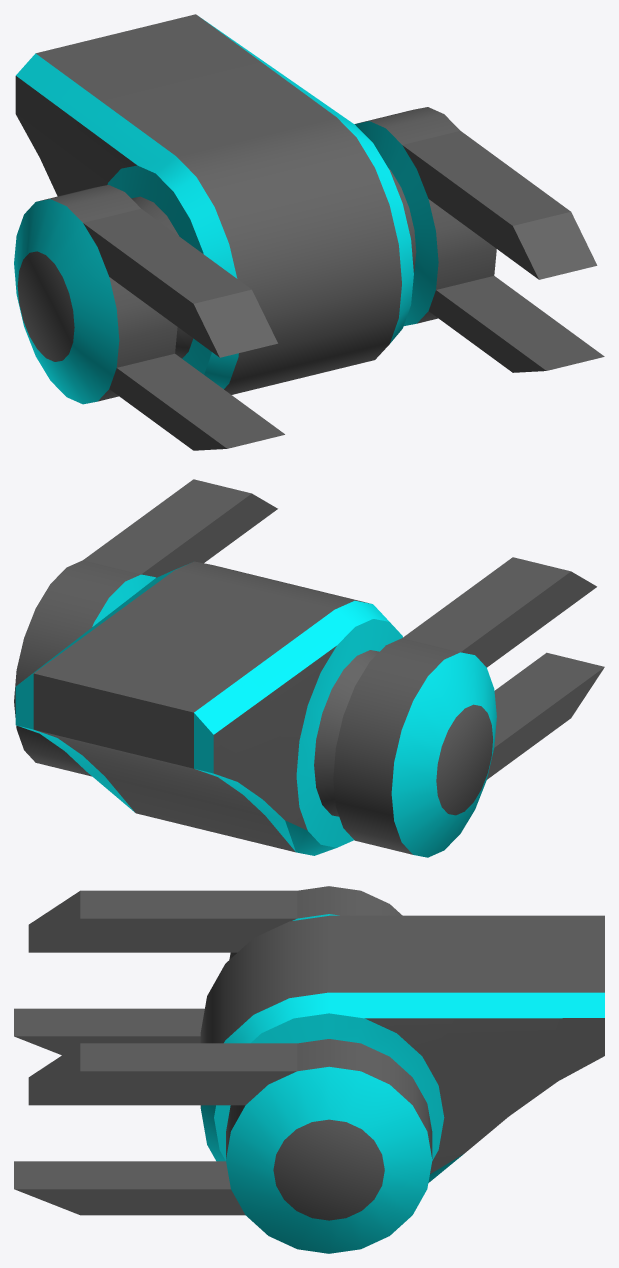
File: BlueDrone.fbx
3 views of the same model, one above another, from view 1: azimuth 30°, elevation 25°; view 2: azimuth 150°, elevation 25°; view 3: azimuth 270°, elevation 25° (orthographic). The views are drawn at different scales.
Parts seen in each view (by area): view 1: pCylinder5; view 2: pCylinder5; view 3: pCylinder5.
Boxes of the visible parts, box(x1,y1,x2,y2) form: pCylinder5: box(14, 14, 604, 450); pCylinder5: box(14, 479, 604, 857); pCylinder5: box(14, 886, 604, 1253).
Bounding box in the file's own units: 1.38 × 0.7476 × 1.72.
